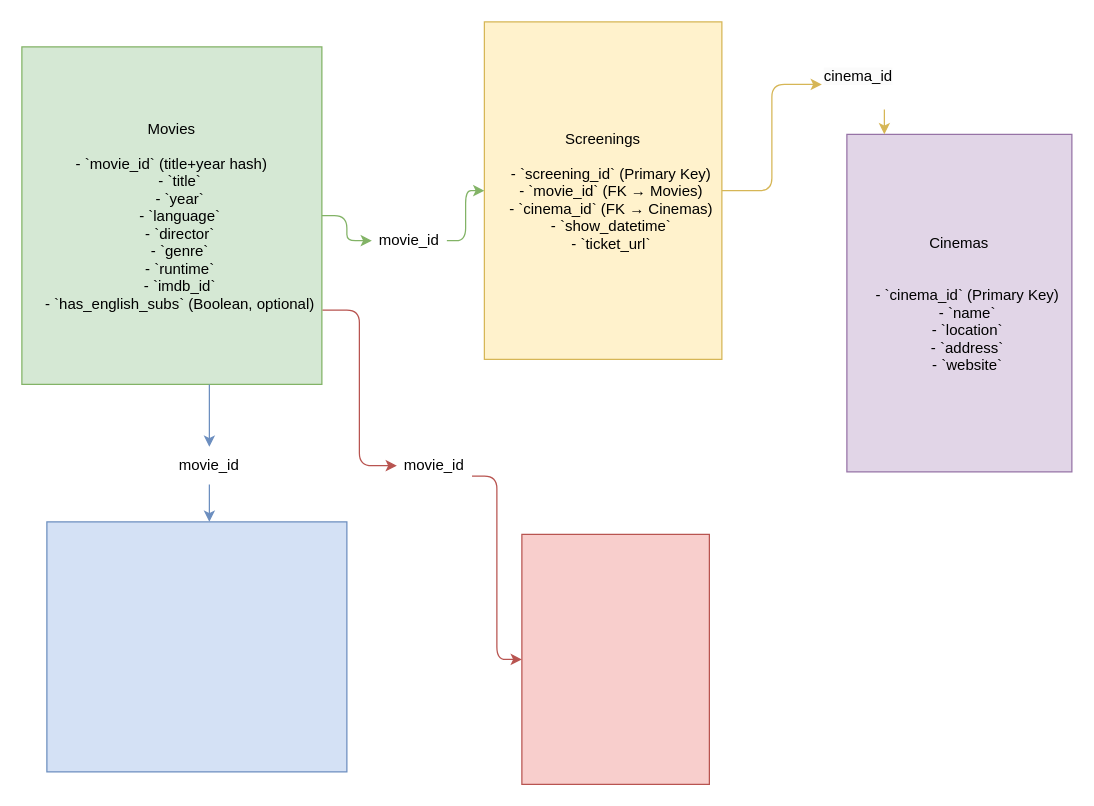
Image size: 1094x806. Some labels were removed from this diagram. Each missing label, with the centre of its shape:
"User Watchlist - `user_id` - `movie_id` (FK → Movies) - `date_added`" goes at pixel 196 646.
"User_History - `user_id` - `movie_id` - `watched_on`" goes at pixel 615 658.
